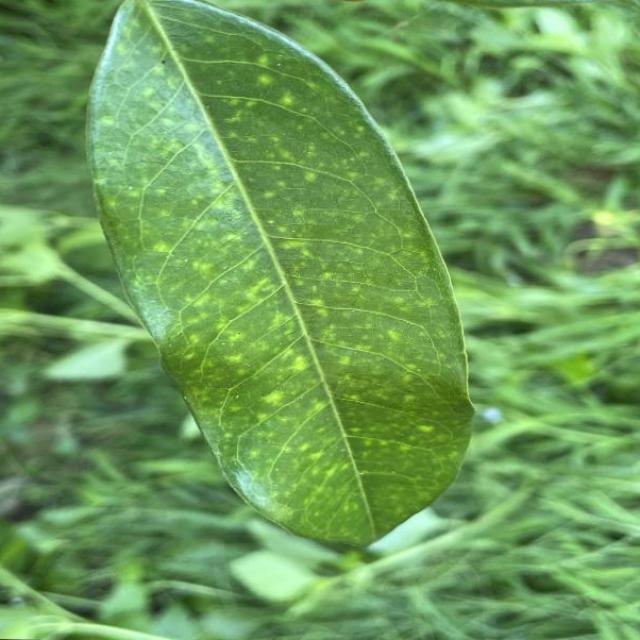Leaf Spot: (74, 0, 492, 561)
